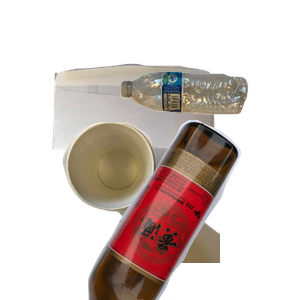glass: (85, 120, 300, 300)
paper: (50, 61, 257, 211)
plastic: (118, 69, 300, 176)
trash: (60, 120, 300, 300)
